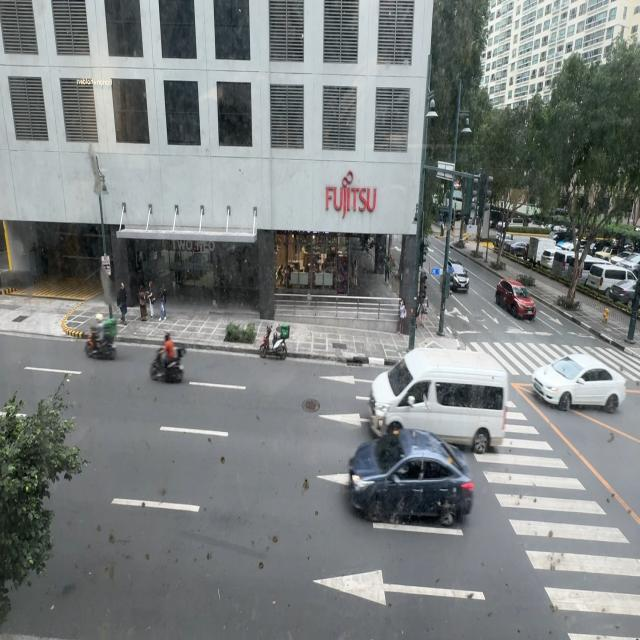pedestrain: (117, 282, 128, 326), (138, 284, 148, 322), (158, 283, 166, 323), (398, 299, 406, 335)
waiting: (419, 294, 428, 327)
